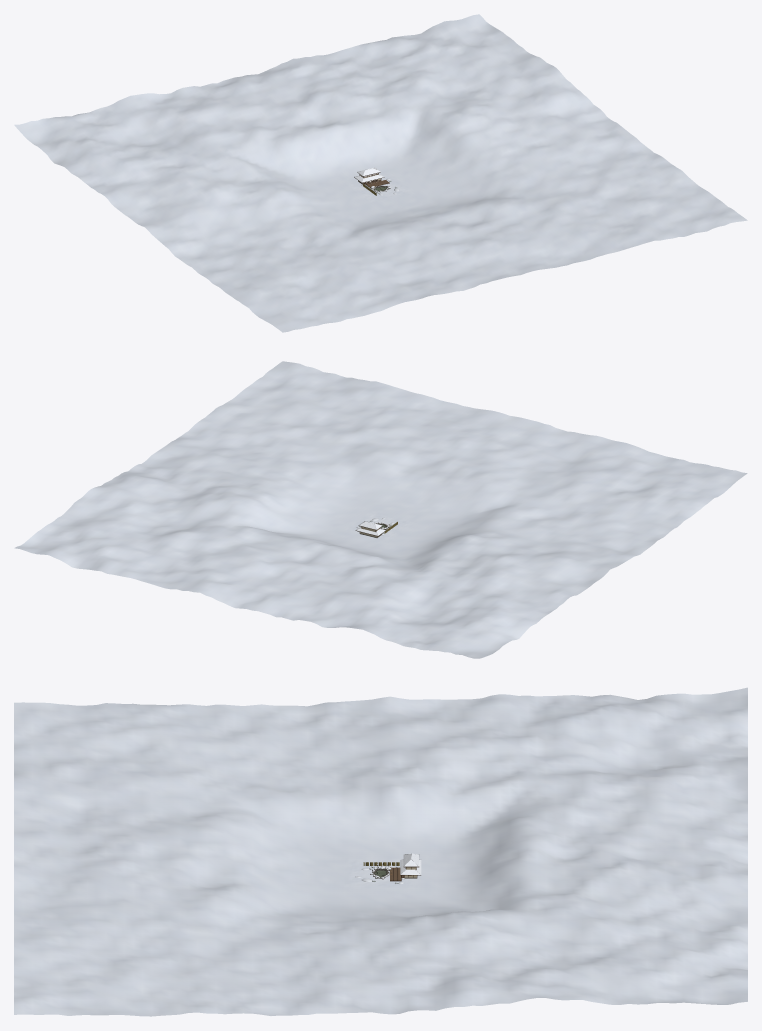
Rendered from site.glb.
3 views of the same model, one above another, from view 1: azimuth 30°, elevation 25°; view 2: azimuth 150°, elevation 25°; view 3: azimuth 270°, elevation 25° (orthographic). The views are drawn at different scales.
Visible parts, largest first — view 1: site__ground; view 2: site__ground; view 3: site__ground, site__snow.
Boxes of the visible parts, x1,y1,x2,y2 form: site__ground: (14,14,747,332); site__ground: (14,361,747,658); site__ground: (14,687,747,1016); site__snow: (355,853,421,884).
Bounding box in the file's own units: 320 × 16.32 × 320.
Materials: 16 (13 with a texture image).
